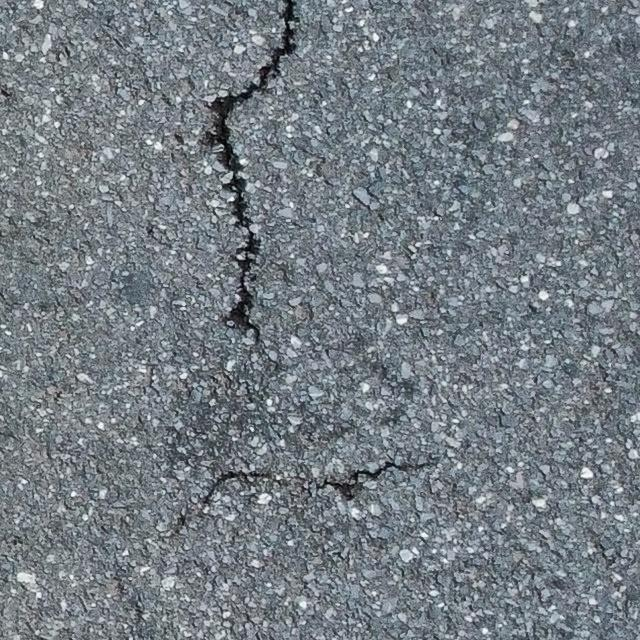LongitudinalCrack: (200, 1, 298, 333)
TransverseCrack: (168, 462, 436, 536)
